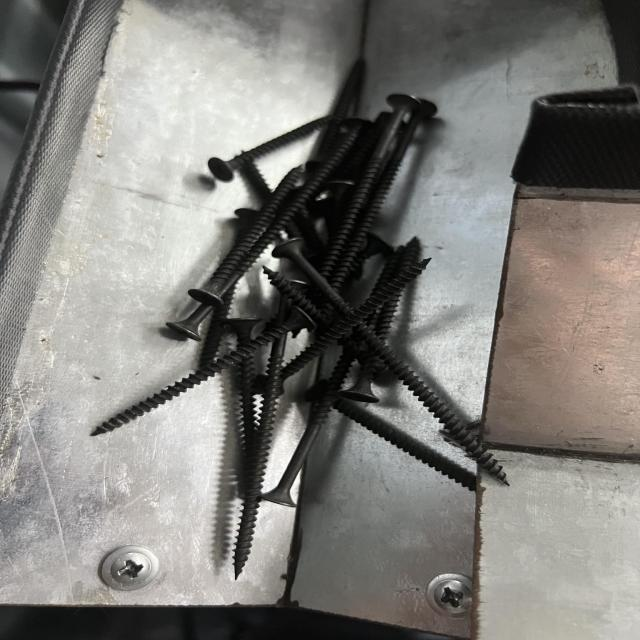screw: (272, 233, 514, 487), (186, 163, 308, 307)
